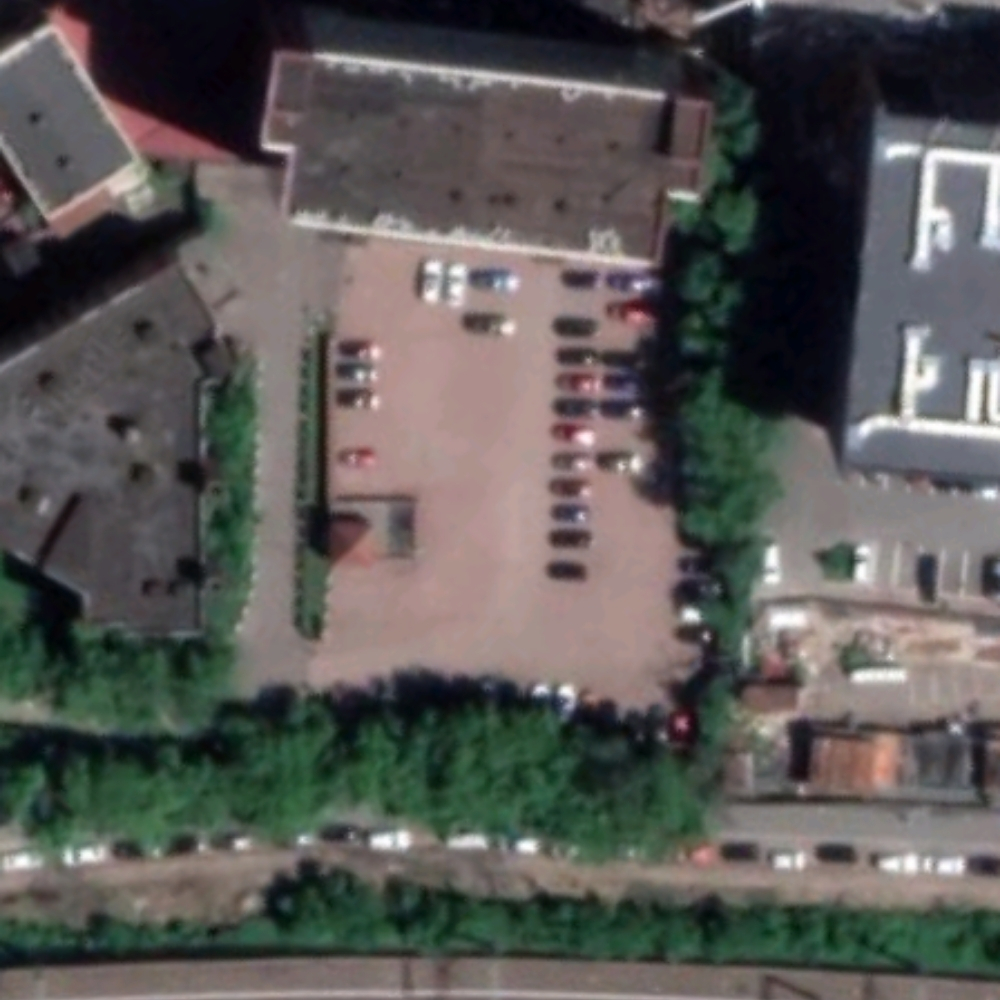parking: (310, 230, 700, 750)
